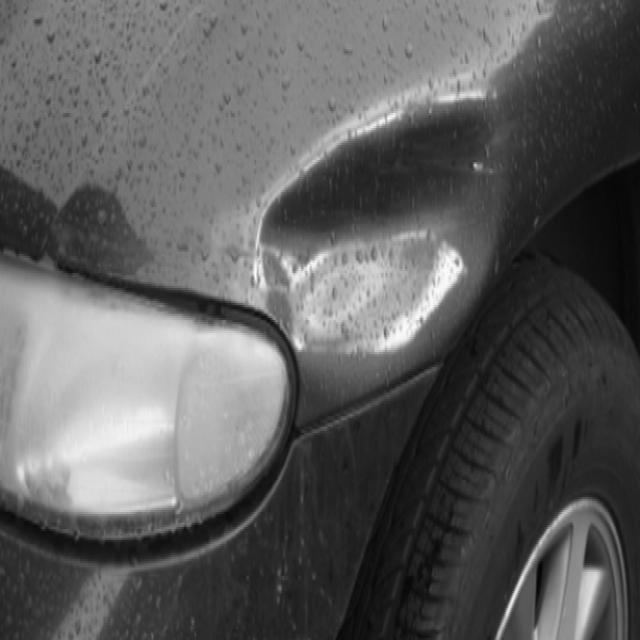dent: (249, 65, 512, 368)
